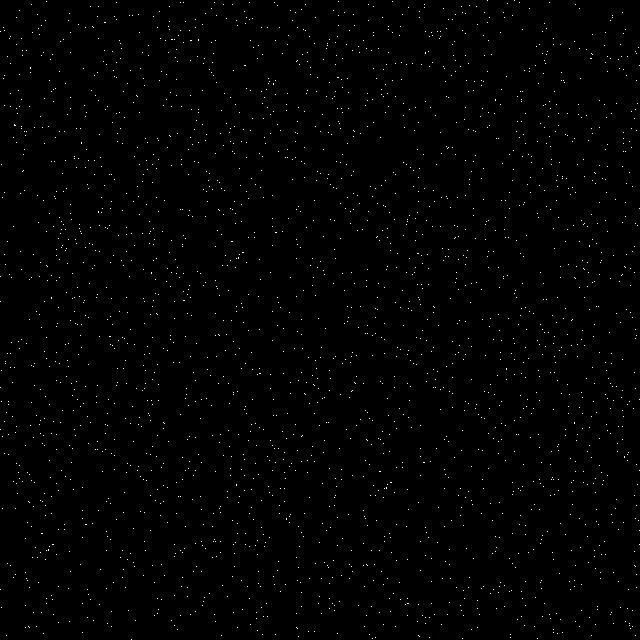drone: (358, 0, 640, 377), (0, 377, 358, 640), (358, 377, 640, 640)
